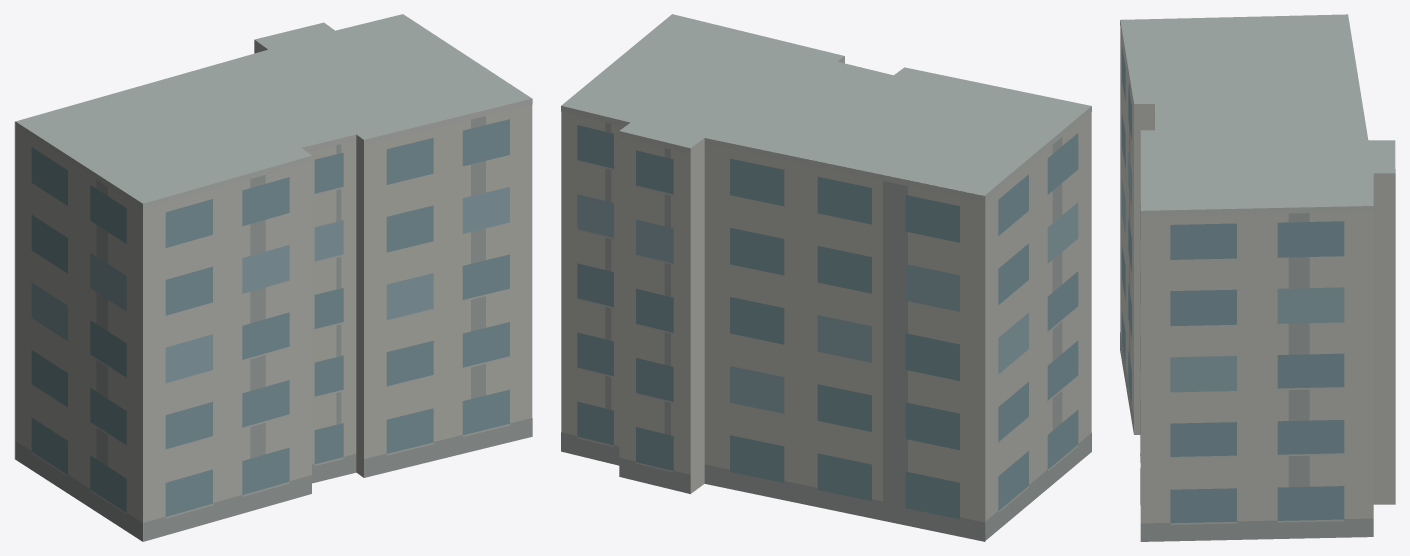
The model's file is survey-upis-32758988.glb.
3 renders of one model, left to right at view 1: azimuth 30°, elevation 25°; view 2: azimuth 150°, elevation 25°; view 3: azimuth 270°, elevation 25°, orthographic. The views are drawn at different scales.
Visible parts, largest first — view 1: survey-upis-32758988.tmp; view 2: survey-upis-32758988.tmp; view 3: survey-upis-32758988.tmp.
Part boxes in pixels (x1=…): survey-upis-32758988.tmp: x1=14, y1=14, x2=532, y2=541; survey-upis-32758988.tmp: x1=561, y1=14, x2=1091, y2=541; survey-upis-32758988.tmp: x1=1120, y1=14, x2=1395, y2=541.
Size of the model in its own units: 17.67 by 13.85 by 10.45.
